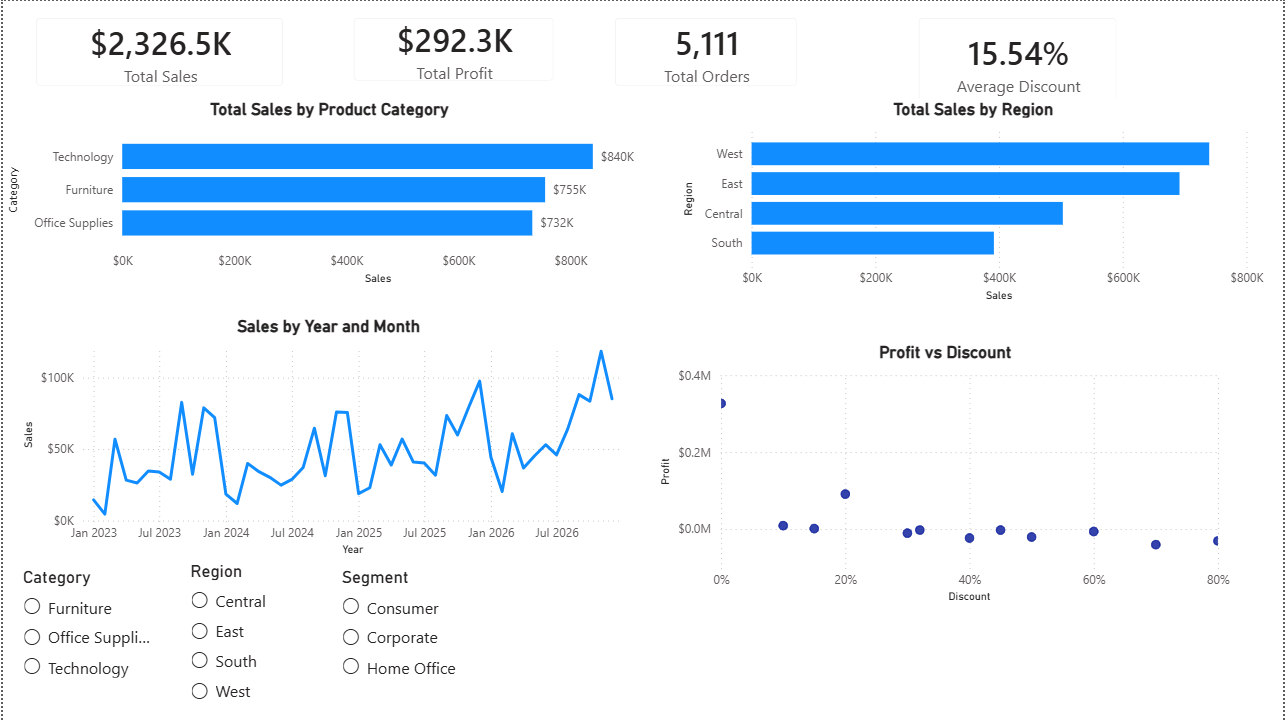

Layout of this report page (visuals, bound fields, positions):
{"tool":"powerbi","page":{"name":"Page 1","canvas":[1280,720],"ordinal":0},"visuals":[{"type":"cardVisual","fields":{"Data":["Sum(Orders.Profit)"]},"box":[333.8,0,234.8,97.8],"z":0},{"type":"cardVisual","fields":{"Data":["Avg(Orders.Discount)"]},"box":[898.8,0,232.3,123.5],"z":1000},{"type":"cardVisual","fields":{"Data":["Sum(Orders.Sales)"]},"box":[15.9,0,281.3,102.7],"z":2000},{"type":"cardVisual","fields":{"Data":["Count(Orders.Order ID)"]},"box":[595.5,0,216.4,102.7],"z":3000},{"type":"clusteredBarChart","title":"Total Sales by Product Category","fields":{"Category":["Orders.Category"],"Y":["Sum(Orders.Sales)"]},"box":[0,97.8,653,190.8],"z":4000},{"type":"lineChart","fields":{"Category":["Orders.Order Date.Variation.Date Hierarchy.Year","Orders.Order Date.Variation.Date Hierarchy.Month"],"Y":["Sum(Orders.Sales)"]},"box":[14.7,315.5,621.2,244.6],"z":5000},{"type":"scatterChart","title":"Profit vs Discount","fields":{"X":["Orders.Discount"],"Y":["Sum(Orders.Profit)"]},"box":[653,341.2,579.6,265.4],"z":6000},{"type":"listSlicer","fields":{"Values":["Orders.Category"]},"box":[14.7,566.2,141.8,154.1],"z":7000},{"type":"listSlicer","fields":{"Values":["Orders.Region"]},"box":[182.2,560.1,127.2,155.3],"z":8000},{"type":"listSlicer","fields":{"Values":["Orders.Segment"]},"box":[333.8,566.2,126,154.1],"z":9000},{"type":"clusteredBarChart","title":"Total Sales by Region","fields":{"Category":["Orders.Region"],"Y":["Sum(Orders.Sales)"]},"box":[675,97.8,590.6,207.9],"z":10000}]}

Visuals, with their boxes in screenshot pixels (x1, y1, x2, y2), scaled from the page's 1280x720 canvas onto the 1285x721 screenshot:
cardVisual - Sum(Orders.Profit): 335 0 571 98
cardVisual - Avg(Orders.Discount): 902 0 1136 124
cardVisual - Sum(Orders.Sales): 16 0 298 103
cardVisual - Count(Orders.Order ID): 598 0 815 103
"Total Sales by Product Category" clusteredBarChart: 0 98 656 289
lineChart - Orders.Order Date.Variation.Date Hierarchy.Year x Orders.Order Date.Variation.Date Hierarchy.Month: 15 316 638 561
"Profit vs Discount" scatterChart: 656 342 1237 607
listSlicer - Orders.Category: 15 567 157 720
listSlicer - Orders.Region: 183 561 311 716
listSlicer - Orders.Segment: 335 567 462 720
"Total Sales by Region" clusteredBarChart: 678 98 1271 306
